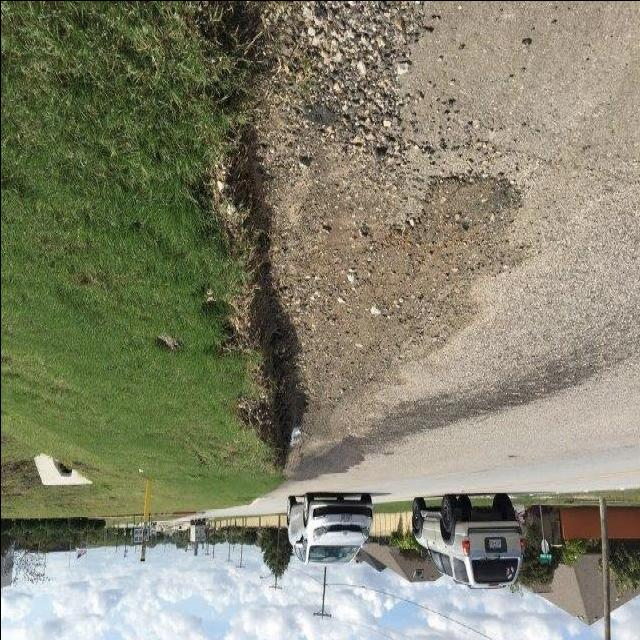jalan retak: (356, 332, 626, 464), (276, 424, 374, 496)
lubang: (291, 160, 534, 434)
